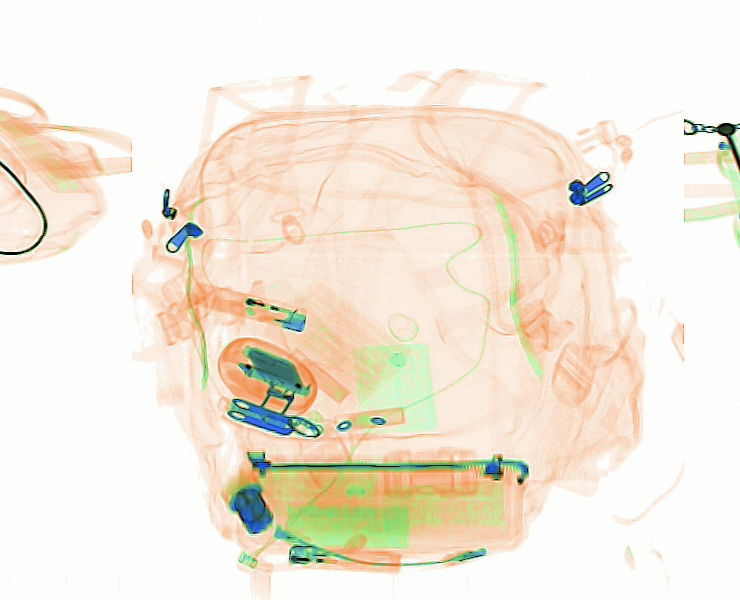lighter: (189, 279, 309, 334), (285, 540, 403, 575)
